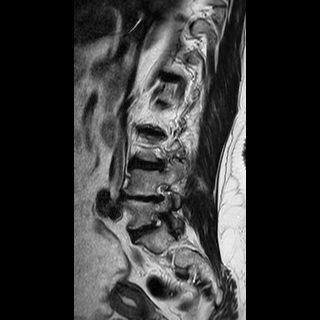RFS0: (144, 205, 167, 235)
